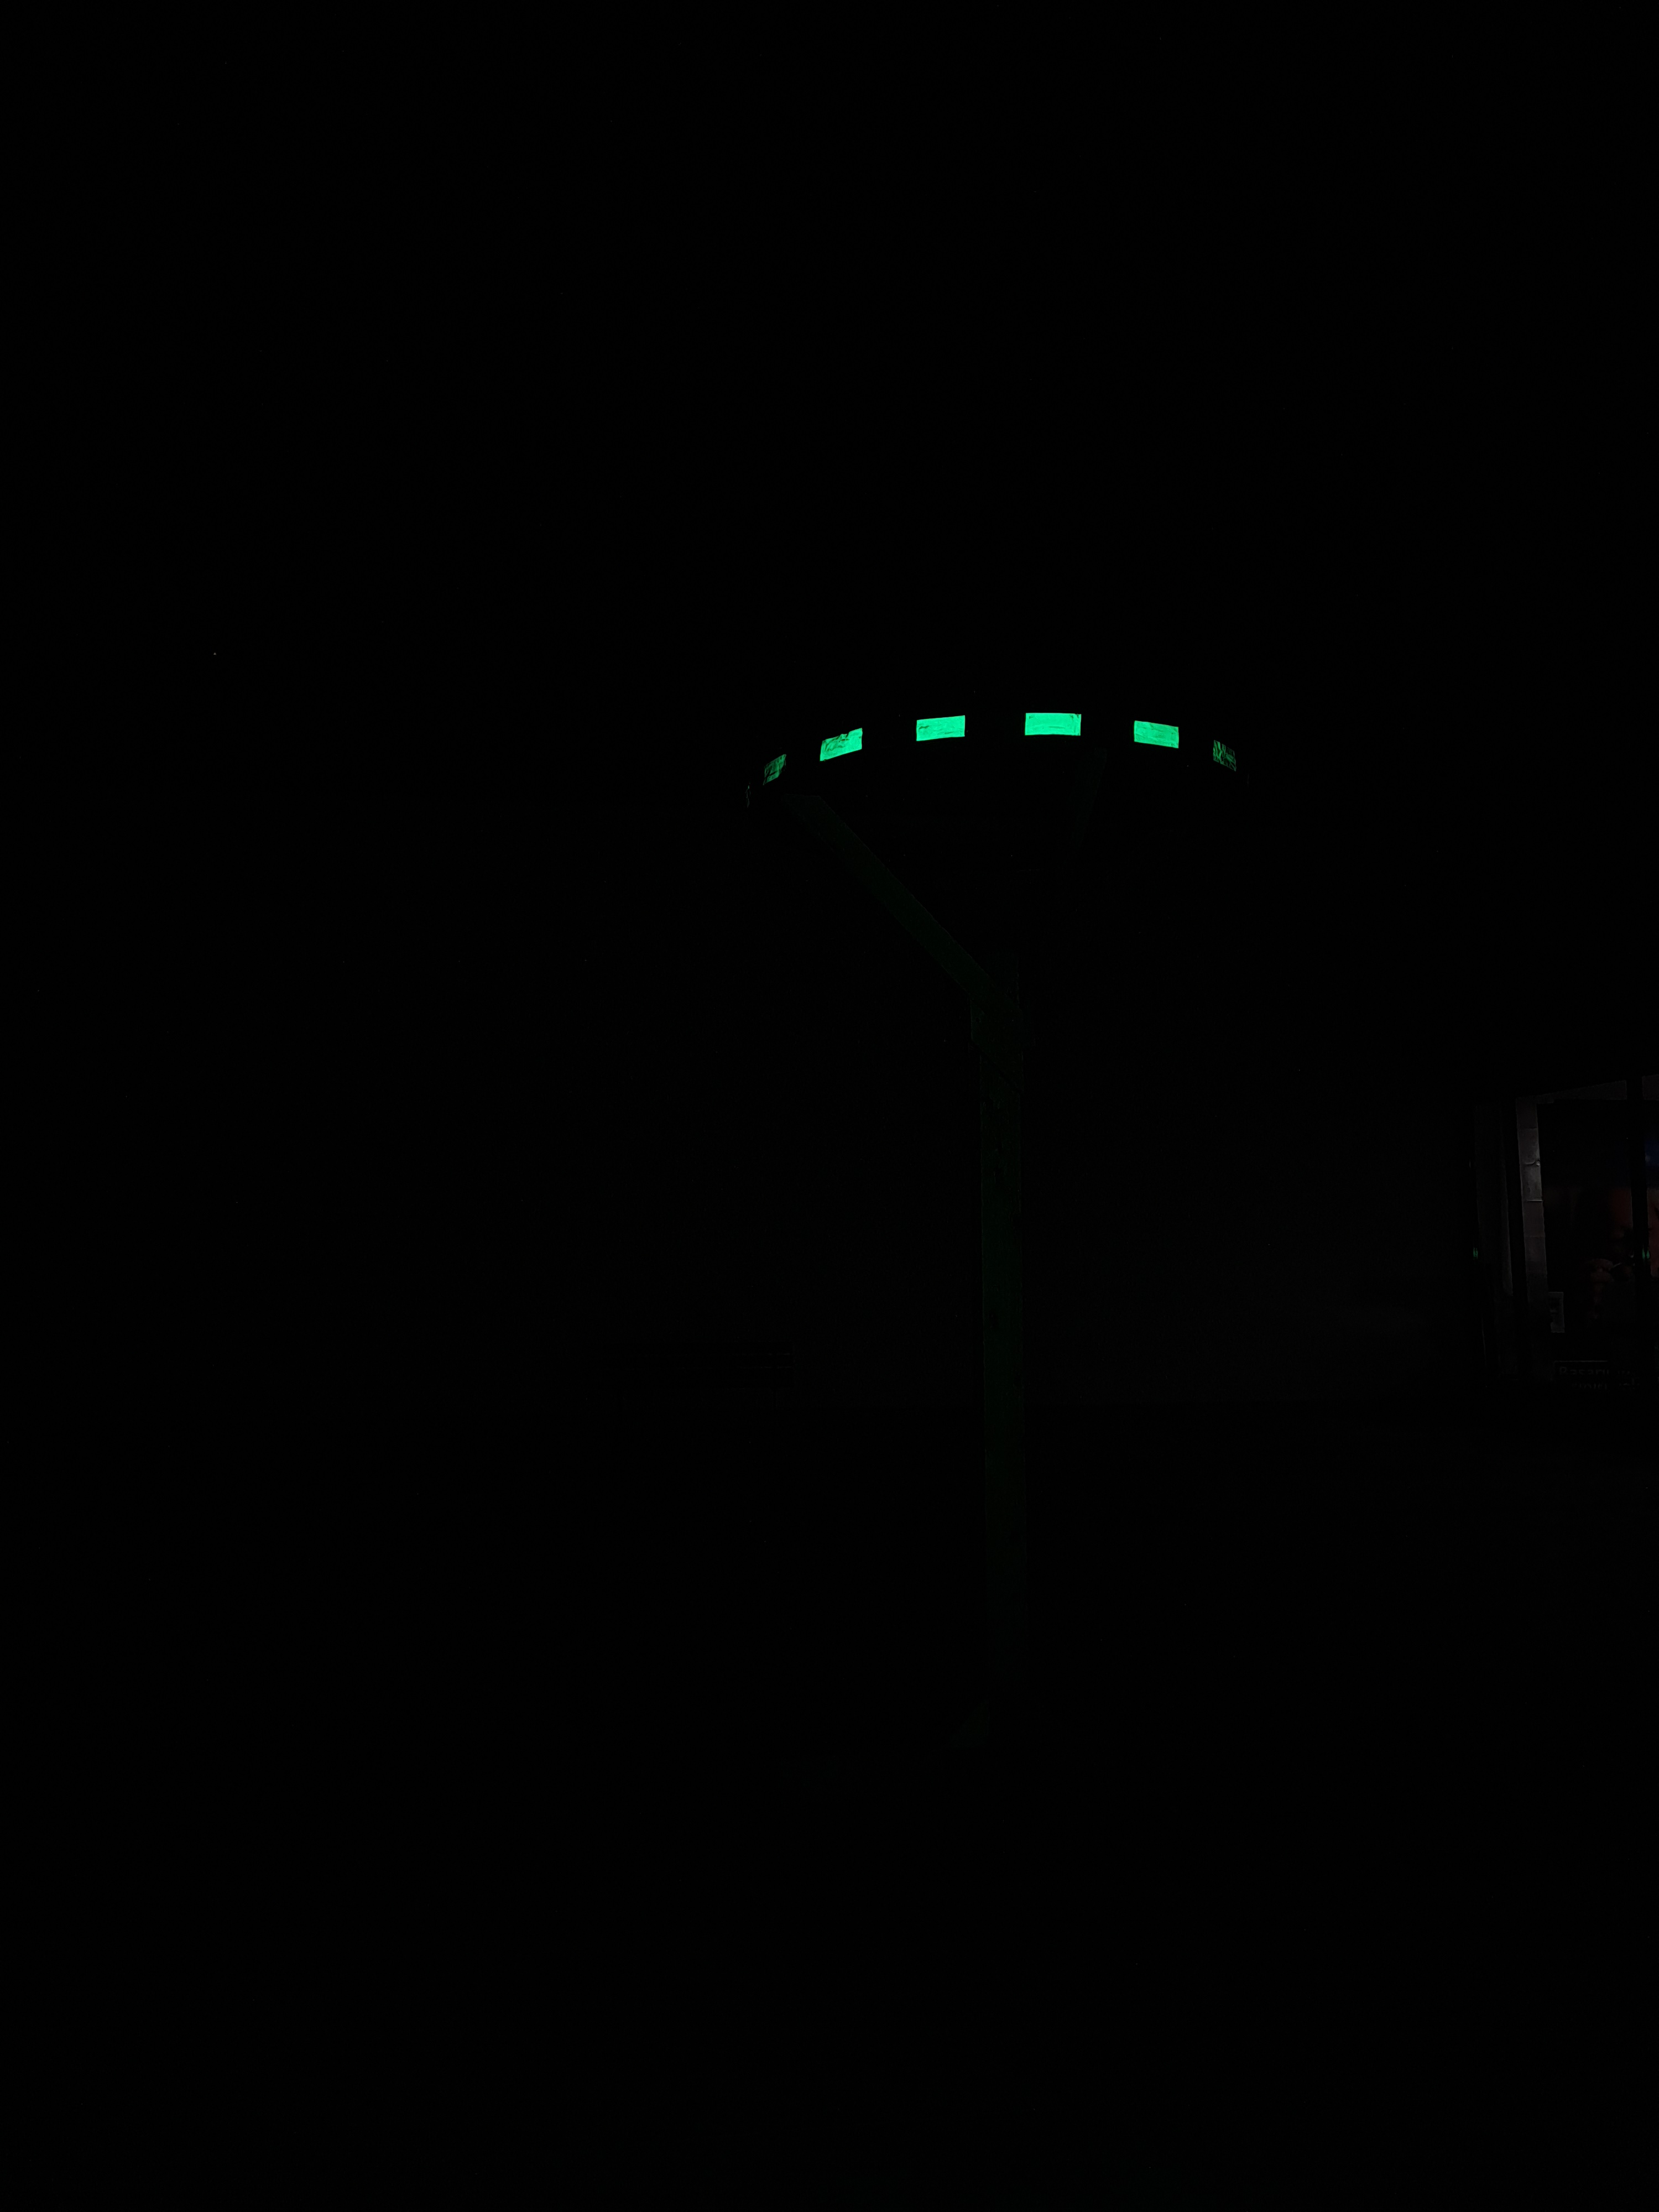hoop: (751, 707, 1249, 782)
